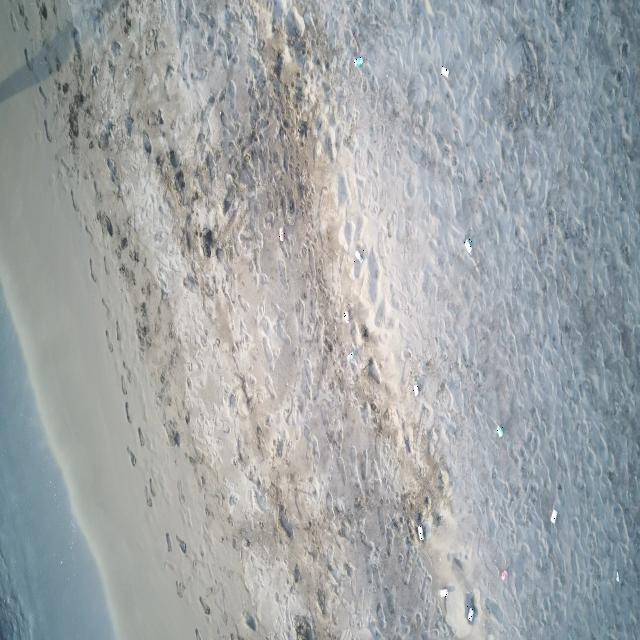Garbage: (287, 7, 303, 36), (464, 592, 475, 623), (353, 55, 362, 67), (464, 238, 471, 252), (417, 524, 423, 540), (495, 424, 503, 436), (500, 567, 507, 580), (550, 508, 556, 523), (467, 607, 473, 622), (355, 249, 363, 260), (412, 384, 419, 395), (440, 65, 447, 76), (439, 588, 447, 597), (347, 351, 353, 362), (343, 310, 348, 322), (279, 227, 283, 240), (615, 571, 619, 582)
